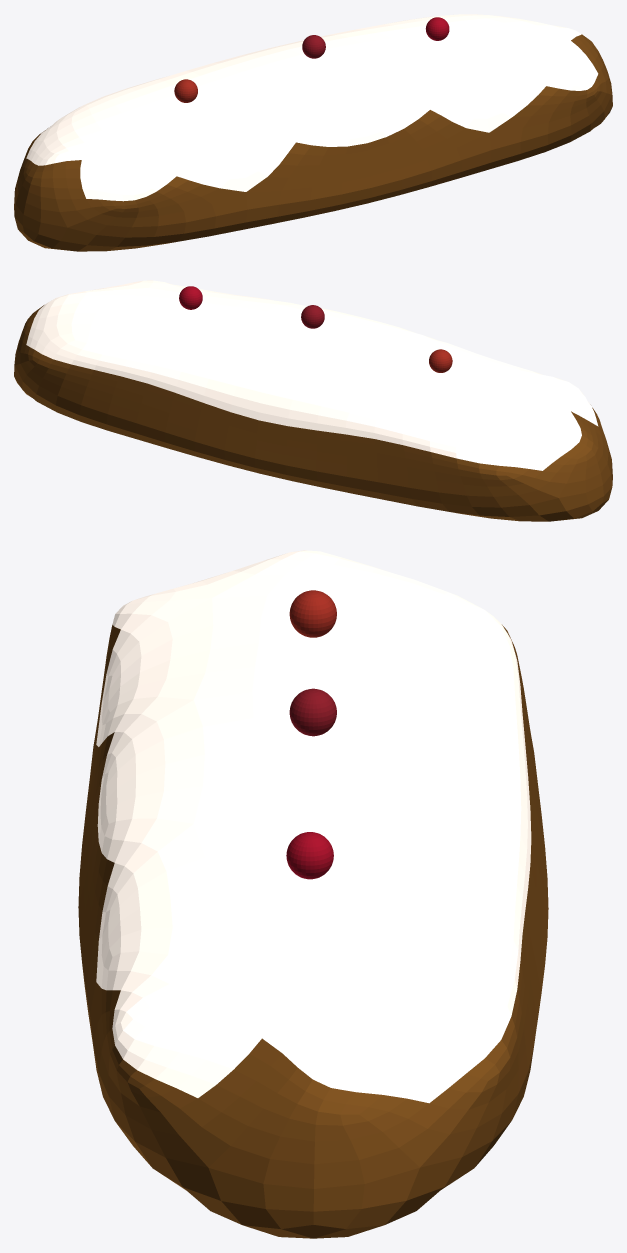
The model's file is buche.fbx.
3 renders of one model, top to bottom at view 1: azimuth 30°, elevation 25°; view 2: azimuth 150°, elevation 25°; view 3: azimuth 270°, elevation 25°, orthographic. The views are drawn at different scales.
Parts seen in each view (by area): view 1: Cube, Sphere.001, Sphere, Sphere.002; view 2: Cube, Sphere.001, Sphere.002, Sphere; view 3: Cube, Sphere, Sphere.001, Sphere.002.
Part boxes in pixels (x1,y1,x2,y2): Cube: [14, 14, 612, 251]; Sphere.001: [425, 17, 449, 40]; Sphere: [174, 79, 197, 102]; Sphere.002: [302, 35, 325, 58]; Cube: [14, 280, 612, 521]; Sphere.001: [179, 286, 202, 309]; Sphere.002: [301, 305, 324, 328]; Sphere: [429, 349, 452, 372]; Cube: [78, 550, 548, 1238]; Sphere: [289, 590, 336, 637]; Sphere.001: [286, 832, 333, 879]; Sphere.002: [289, 688, 336, 736].
Size of the model in its own units: 477 by 111 by 167.
